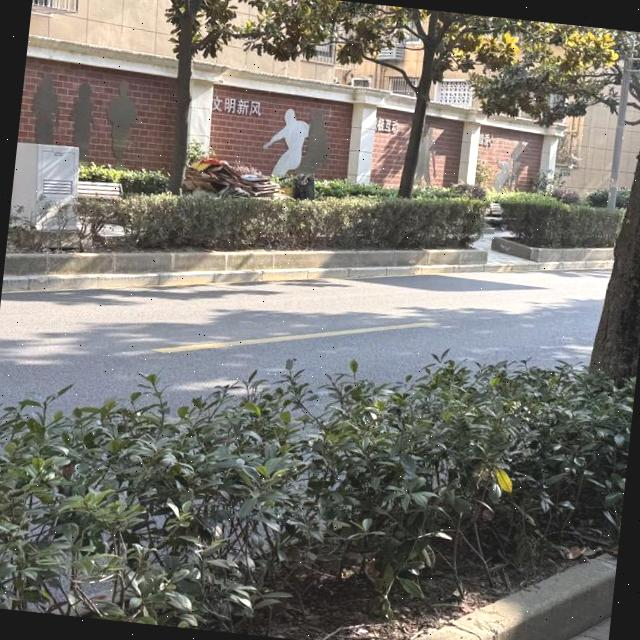curb: (1, 260, 607, 292), (410, 555, 616, 640), (3, 248, 486, 276), (491, 237, 612, 261)
